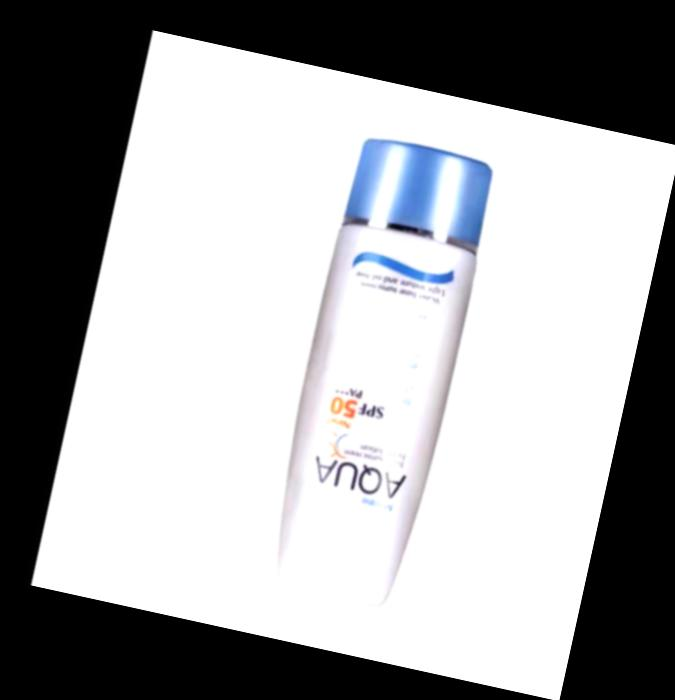cosmetic: (254, 132, 498, 610)
